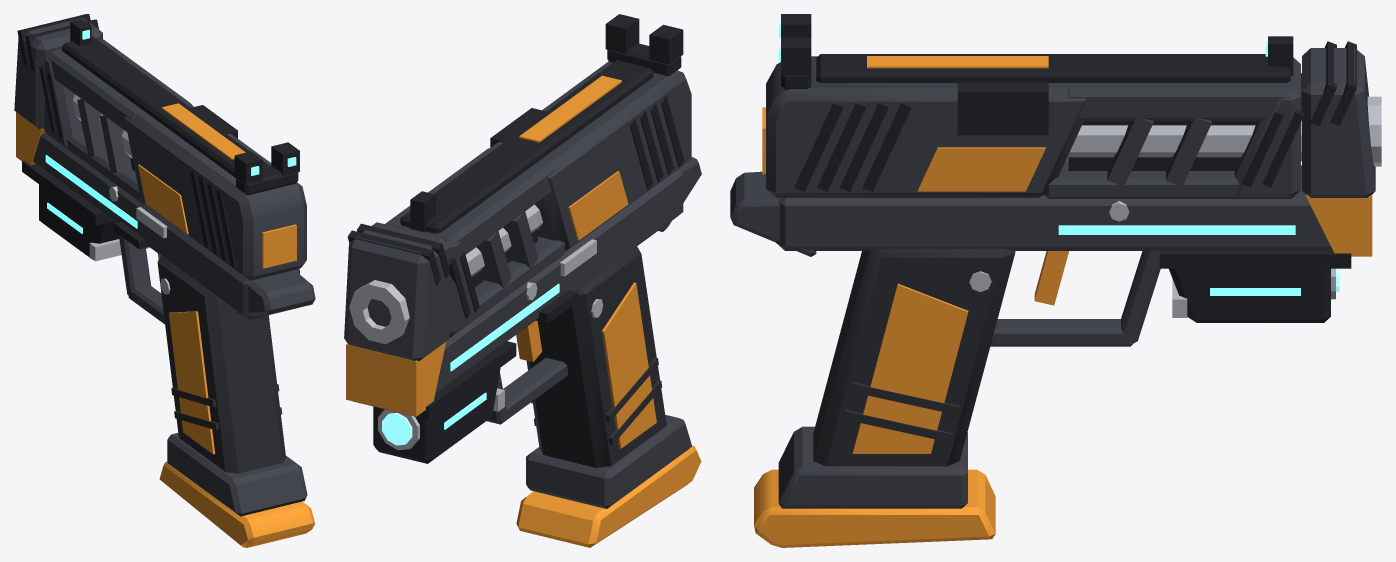
Rendered from Viper.glb.
3 renders of one model, left to right at view 1: azimuth 30°, elevation 25°; view 2: azimuth 150°, elevation 25°; view 3: azimuth 270°, elevation 25°, orthographic. The views are drawn at different scales.
Parts seen in each view (by area): view 1: Grip, SlideRear, Frame, Magwell, TopRib, MagPlate, GripInlay, SlideTopBar, Compensator, Beavertail, LightModule, SlideNose (+25 smaller); view 2: Grip, SlideRear, Frame, Compensator, TopRib, MagPlate, Magwell, FrameChin, GripInlay, SlideTopBar, LightModule, MuzzleRing (+30 smaller); view 3: Frame, SlideRear, Grip, TopRib, GripInlay, MagPlate, Magwell, Compensator, SlideTopBar, LightModule, SlideBottomBar, EjectionPort (+27 smaller).
Boxes of the visible parts, bbox=[...] form: Grip: bbox=[157, 255, 285, 473]; SlideRear: bbox=[124, 96, 306, 280]; Frame: bbox=[33, 132, 299, 319]; Magwell: bbox=[167, 433, 307, 516]; TopRib: bbox=[62, 36, 270, 177]; MagPlate: bbox=[159, 462, 315, 547]; GripInlay: bbox=[169, 311, 215, 454]; SlideTopBar: bbox=[47, 39, 191, 131]; Compensator: bbox=[14, 15, 102, 129]; Beavertail: bbox=[236, 270, 315, 317]; LightModule: bbox=[39, 184, 119, 259]; SlideNose: bbox=[44, 39, 104, 147]; Grip: bbox=[526, 246, 666, 467]; SlideRear: bbox=[483, 61, 691, 251]; Frame: bbox=[435, 169, 683, 393]; Compensator: bbox=[344, 222, 449, 361]; TopRib: bbox=[400, 60, 653, 233]; MagPlate: bbox=[516, 445, 701, 547]; Magwell: bbox=[526, 415, 691, 508]; FrameChin: bbox=[346, 341, 446, 416]; GripInlay: bbox=[601, 282, 656, 448]; SlideTopBar: bbox=[385, 148, 555, 254]; LightModule: bbox=[373, 368, 500, 463]; MuzzleRing: bbox=[349, 280, 409, 344]; Frame: bbox=[776, 165, 1332, 250]; SlideRear: bbox=[766, 56, 1088, 197]; Grip: bbox=[813, 248, 1015, 466]; TopRib: bbox=[816, 54, 1290, 82]; GripInlay: bbox=[852, 283, 968, 453]; MagPlate: bbox=[754, 469, 995, 547]; Magwell: bbox=[778, 426, 967, 508]; Compensator: bbox=[1302, 48, 1375, 197]; SlideTopBar: bbox=[1068, 82, 1290, 120]; LightModule: bbox=[1169, 268, 1330, 322]; SlideBottomBar: bbox=[1043, 161, 1295, 198]; EjectionPort: bbox=[957, 82, 1048, 135].
Size of the model in its own units: 0.215 by 1.09 by 1.29.
